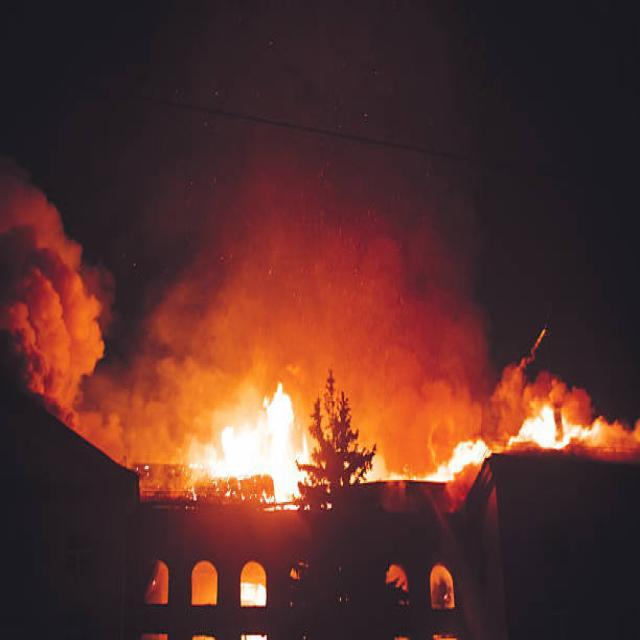Fire: (190, 401, 306, 484), (524, 402, 601, 454), (446, 429, 488, 471)
Smoke: (2, 171, 120, 405), (84, 368, 198, 468)
